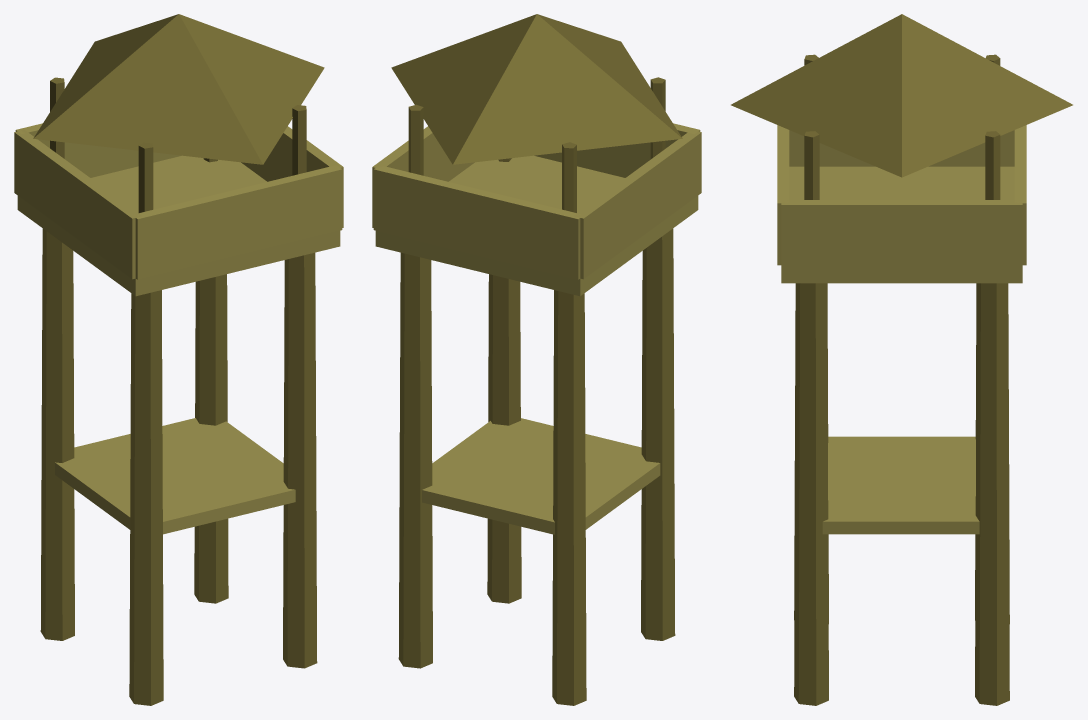
The model's file is frog_tower_broken.glb.
3 views of the same model, side by side, from view 1: azimuth 30°, elevation 25°; view 2: azimuth 150°, elevation 25°; view 3: azimuth 270°, elevation 25° (orthographic). The views are drawn at different scales.
Parts seen in each view (by area): view 1: frog_tower_piece3, frog_tower_piece6, frog_tower_piece5, frog_tower_piece8, frog_tower_piece1, frog_tower_piece7, frog_tower_piece9, frog_tower_piece4, frog_tower_piece0, frog_tower_piece12, frog_tower_piece2, frog_tower_piece10; view 2: frog_tower_piece5, frog_tower_piece3, frog_tower_piece4, frog_tower_piece1, frog_tower_piece9, frog_tower_piece8, frog_tower_piece7, frog_tower_piece2, frog_tower_piece6, frog_tower_piece0, frog_tower_piece12, frog_tower_piece10 (+1 smaller); view 3: frog_tower_piece5, frog_tower_piece4, frog_tower_piece7, frog_tower_piece9, frog_tower_piece6, frog_tower_piece3, frog_tower_piece8, frog_tower_piece2, frog_tower_piece12, frog_tower_piece10, frog_tower_piece1.
Boxes of the visible parts, box(x1,y1,x2,y2) form: frog_tower_piece3: box(33, 70, 266, 440); frog_tower_piece6: box(91, 33, 342, 367); frog_tower_piece5: box(64, 14, 343, 235); frog_tower_piece8: box(40, 442, 309, 705); frog_tower_piece1: box(14, 181, 97, 593); frog_tower_piece7: box(162, 367, 317, 666); frog_tower_piece9: box(110, 356, 271, 603); frog_tower_piece4: box(95, 150, 273, 446); frog_tower_piece0: box(71, 212, 169, 571); frog_tower_piece12: box(14, 98, 77, 251); frog_tower_piece2: box(19, 56, 315, 400); frog_tower_piece10: box(44, 450, 133, 595); frog_tower_piece5: box(391, 14, 559, 283); frog_tower_piece3: box(577, 38, 701, 348); frog_tower_piece4: box(372, 117, 524, 526); frog_tower_piece1: box(525, 244, 607, 661); frog_tower_piece9: box(398, 431, 528, 668); frog_tower_piece8: box(508, 423, 675, 705); frog_tower_piece7: box(460, 274, 540, 603); frog_tower_piece2: box(490, 86, 596, 339); frog_tower_piece6: box(502, 19, 609, 200); frog_tower_piece0: box(638, 211, 674, 496); frog_tower_piece12: box(575, 146, 643, 281); frog_tower_piece10: box(537, 436, 673, 657); frog_tower_piece5: box(777, 14, 1072, 309); frog_tower_piece4: box(875, 145, 1026, 481); frog_tower_piece7: box(794, 372, 937, 705); frog_tower_piece9: box(886, 453, 1009, 705); frog_tower_piece6: box(740, 32, 867, 392); frog_tower_piece3: box(731, 54, 925, 345); frog_tower_piece8: box(794, 443, 1009, 698); frog_tower_piece2: box(795, 54, 1014, 422); frog_tower_piece12: box(906, 133, 1006, 189); frog_tower_piece10: box(827, 419, 975, 538); frog_tower_piece1: box(932, 150, 1014, 541).
Size of the model in its own units: 1.71 by 3.55 by 1.71.
